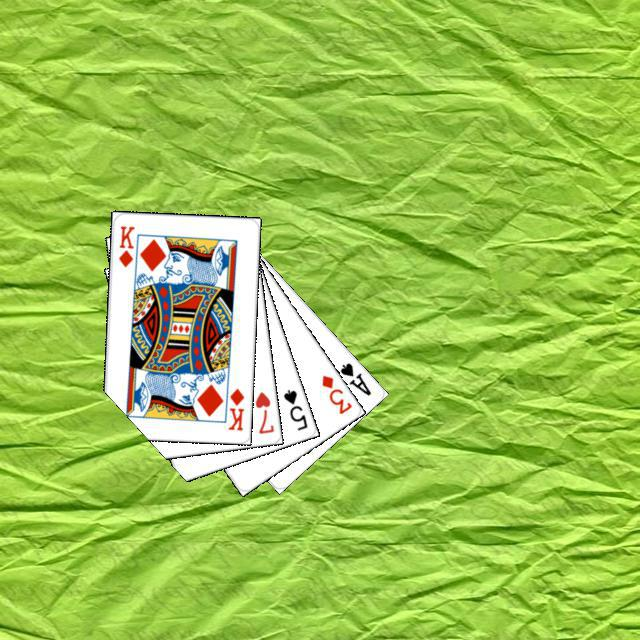3d: (317, 370, 353, 416)
5s: (278, 384, 309, 432)
7h: (250, 387, 275, 435)
As: (335, 358, 373, 398)
Kd: (223, 383, 246, 432), (114, 221, 136, 269)
